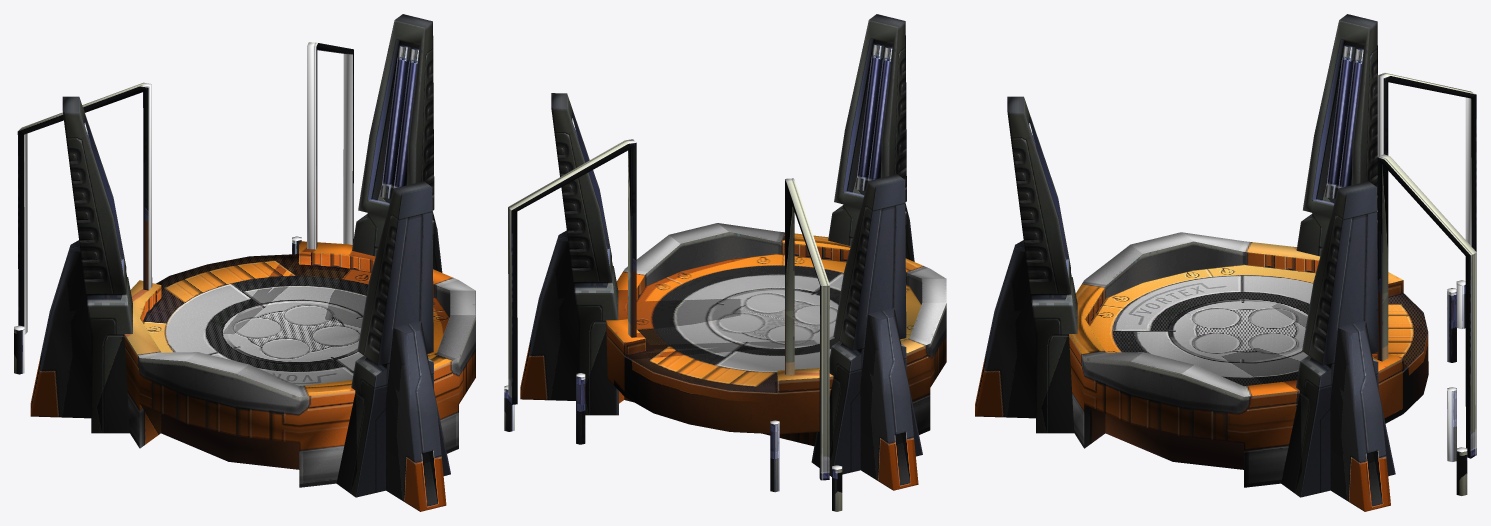
Rendered from vortexap_1.glb.
3 views of the same model, side by side, from view 1: azimuth 30°, elevation 25°; view 2: azimuth 150°, elevation 25°; view 3: azimuth 270°, elevation 25° (orthographic). The views are drawn at different scales.
Parts seen in each view (by area): view 1: __lithtech_lh_to_gltf_rh__; view 2: __lithtech_lh_to_gltf_rh__; view 3: __lithtech_lh_to_gltf_rh__.
Part boxes in pixels (x1,y1,x2,y2): __lithtech_lh_to_gltf_rh__: (14,14,475,511); __lithtech_lh_to_gltf_rh__: (504,14,946,511); __lithtech_lh_to_gltf_rh__: (975,14,1476,511).
Bounding box in the file's own units: 92.16 × 64.77 × 96.19.
Materials: 1 (1 with a texture image).
